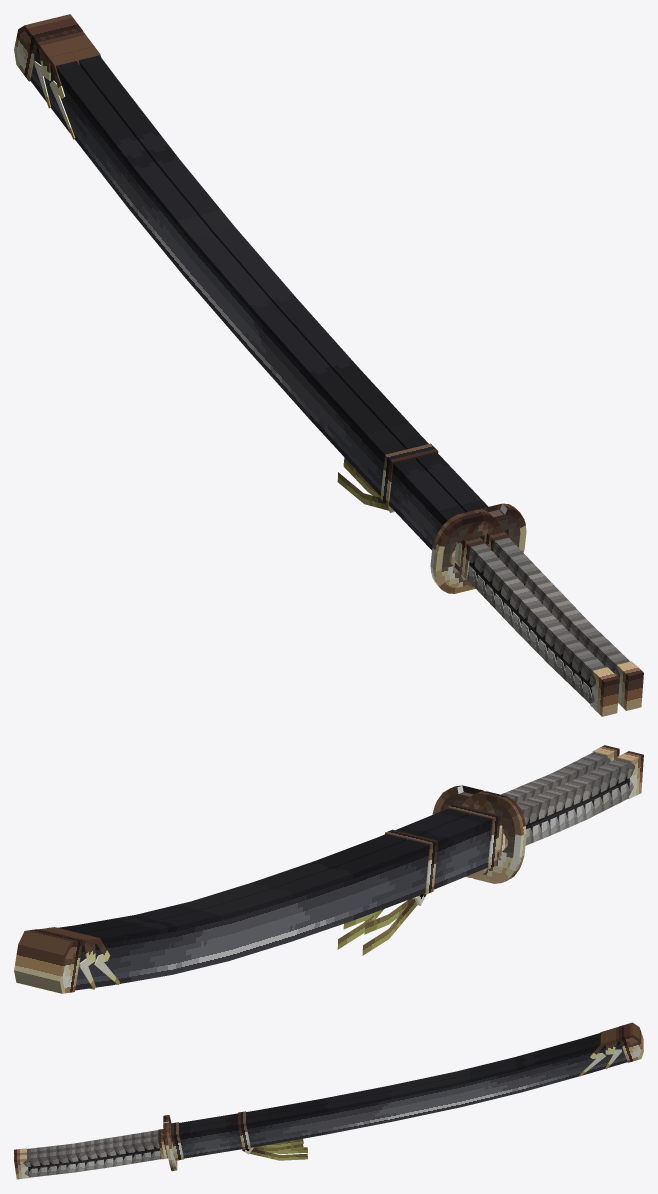
The model's file is yamato_dmc4_in_sheath.glb.
3 views of the same model, one above another, from view 1: azimuth 30°, elevation 25°; view 2: azimuth 150°, elevation 25°; view 3: azimuth 270°, elevation 25° (orthographic). The views are drawn at different scales.
Parts seen in each view (by area): view 1: main__Tool_L, off__Tool_R; view 2: main__Tool_L, off__Tool_R; view 3: off__Tool_R, main__Tool_L.
Boxes of the visible parts, bbox=[...] form: main__Tool_L: bbox=[14, 19, 619, 716]; off__Tool_R: bbox=[48, 14, 643, 710]; main__Tool_L: bbox=[37, 751, 643, 993]; off__Tool_R: bbox=[14, 745, 619, 987]; off__Tool_R: bbox=[14, 1028, 643, 1179]; main__Tool_L: bbox=[14, 1022, 643, 1162].
Size of the model in its own units: 0.2063 by 0.6026 by 2.36.
Materials: 1 (1 with a texture image).
